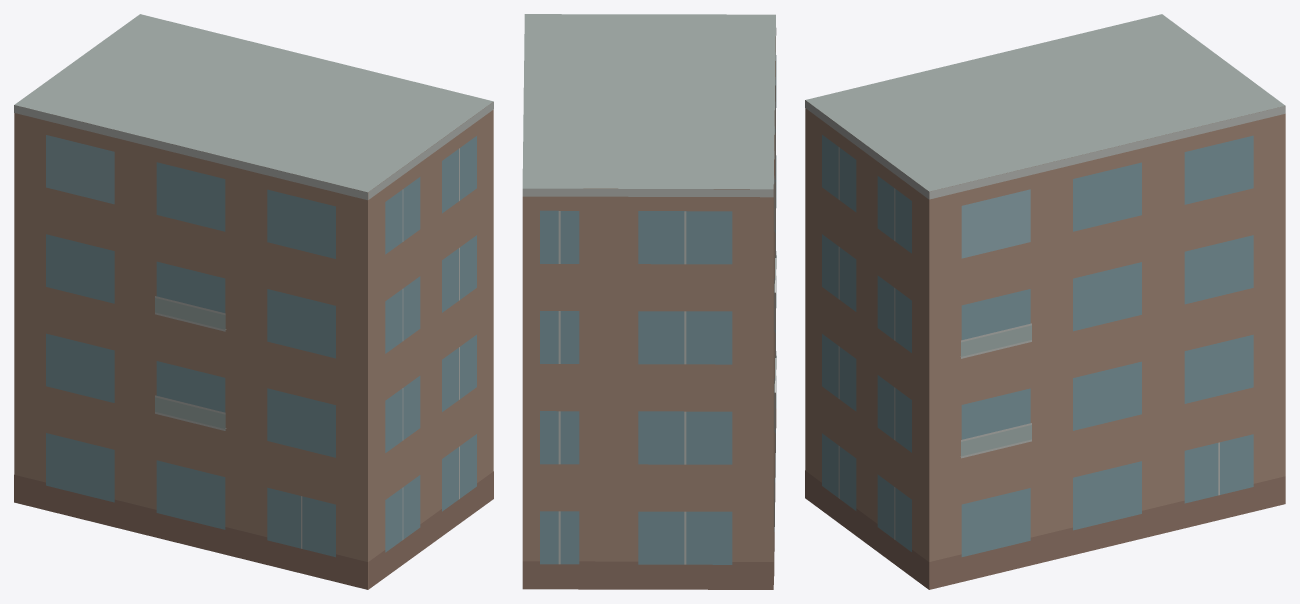
File: residential-bb4e4406-1edd-4e7a-a382-0357eb4f005d.glb
The picture shows the model from 3 angles, left to right: view 1: azimuth 30°, elevation 25°; view 2: azimuth 150°, elevation 25°; view 3: azimuth 270°, elevation 25°; orthographic projection.
Visible parts, largest first — view 1: residential-bb4e4406-1edd-4e7a-a382-0357eb4f005d.tmp; view 2: residential-bb4e4406-1edd-4e7a-a382-0357eb4f005d.tmp; view 3: residential-bb4e4406-1edd-4e7a-a382-0357eb4f005d.tmp.
Boxes of the visible parts, x1=… form: residential-bb4e4406-1edd-4e7a-a382-0357eb4f005d.tmp: x1=14, y1=14, x2=493, y2=589; residential-bb4e4406-1edd-4e7a-a382-0357eb4f005d.tmp: x1=522, y1=14, x2=776, y2=589; residential-bb4e4406-1edd-4e7a-a382-0357eb4f005d.tmp: x1=805, y1=14, x2=1285, y2=589.
Size of the model in its own units: 11.68 by 12.2 by 13.35.
